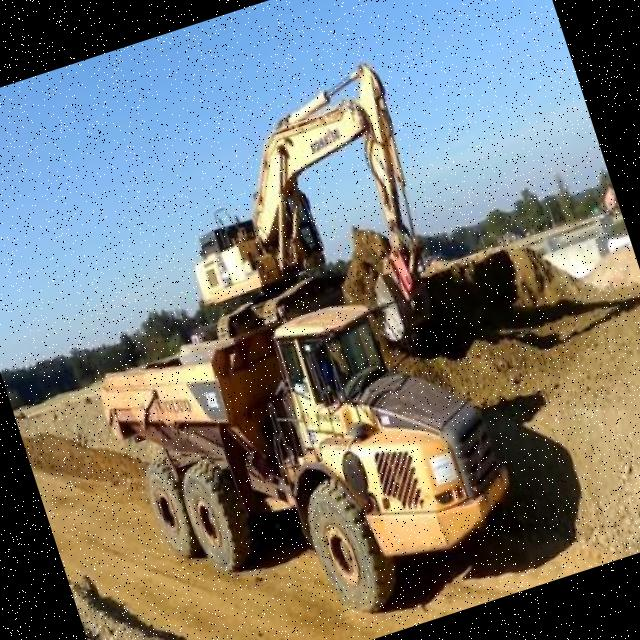Dump Truck: (86, 253, 538, 640)
Excavator: (148, 56, 462, 404)
